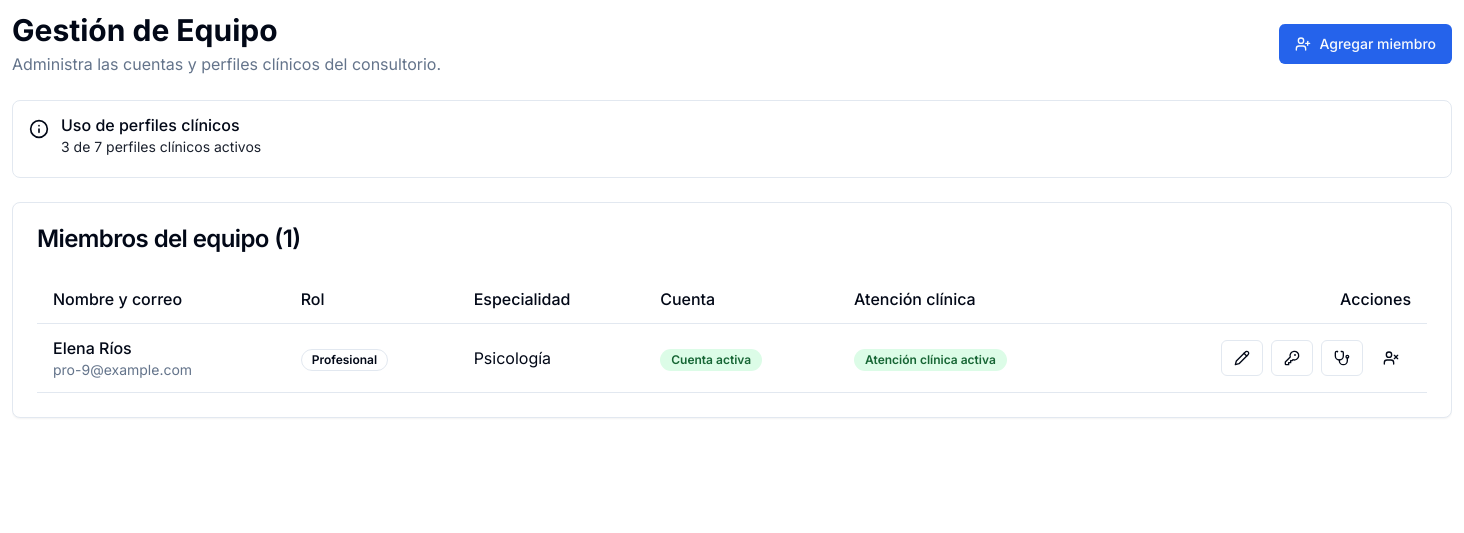
Scenario: TeamManager › surfaces an API rejection (MASTER_IMMUTABLE) and keeps the row
Click the button named "Desactivar atención clínica de Elena Ríos". click: (1342, 358)
box: [1321, 340, 1363, 376]
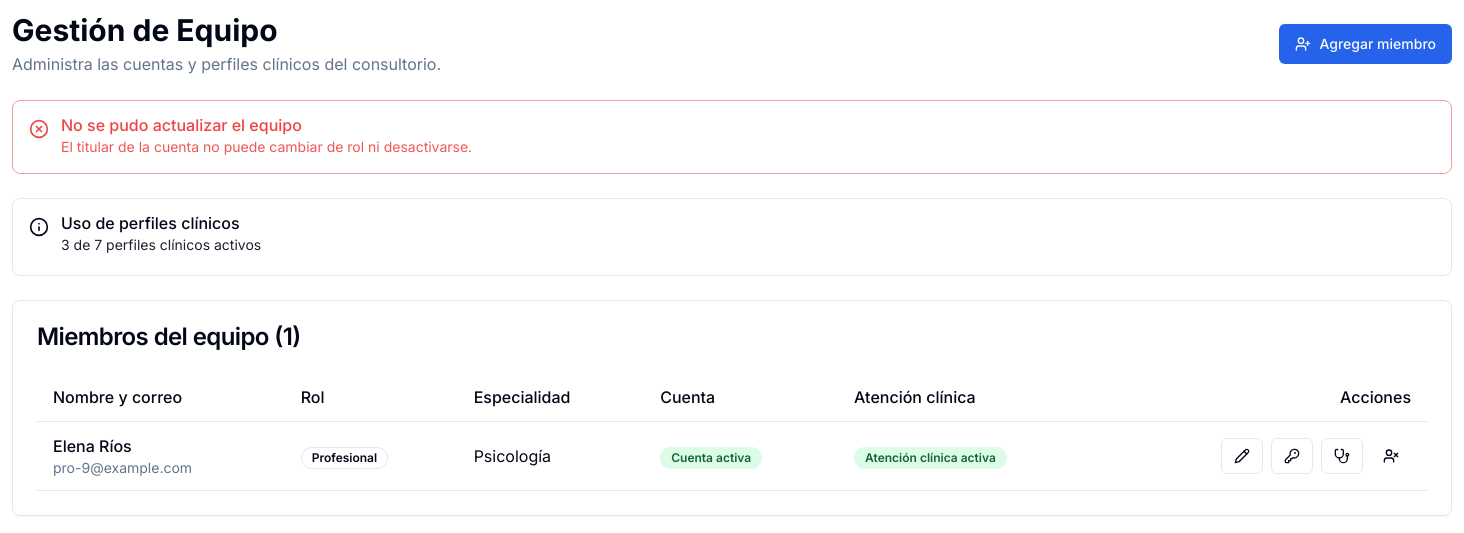
Expected: the text "Elena Ríos" is shown, [53, 436, 132, 456]
Expected: the text "El titular de la cuenta no puede cambiar de rol ni desactivarse." is shown, [61, 138, 472, 155]
